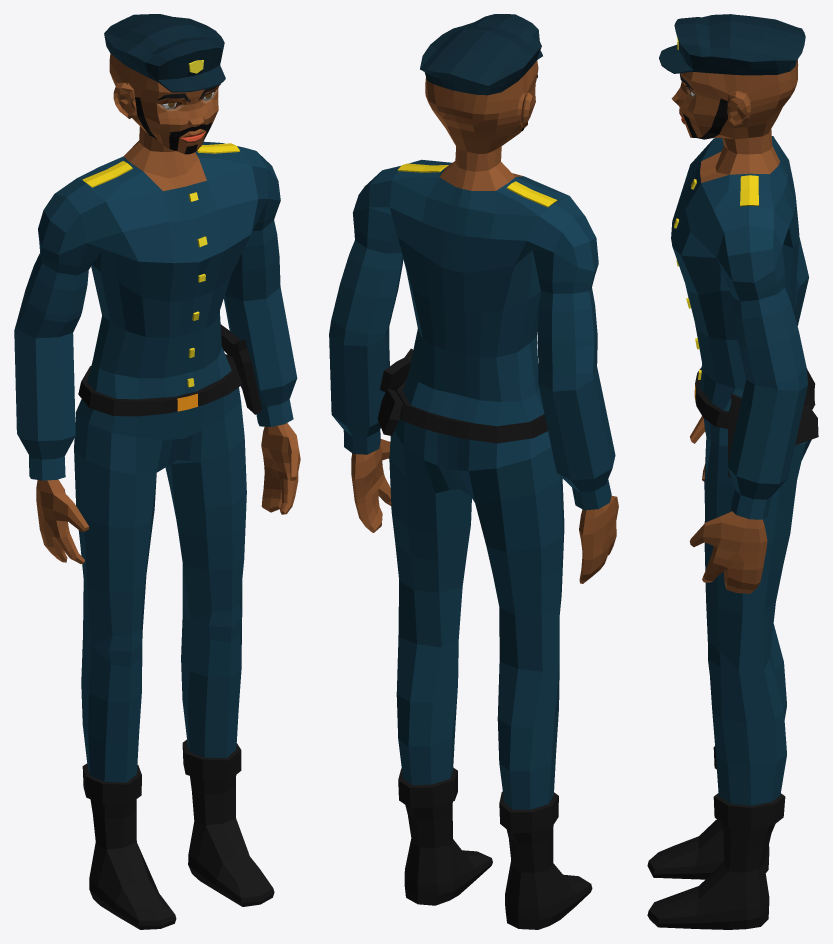
The model's file is Police_Stand.fbx.
3 renders of one model, left to right at view 1: azimuth 30°, elevation 25°; view 2: azimuth 150°, elevation 25°; view 3: azimuth 270°, elevation 25°, orthographic.
Visible parts, largest first — view 1: Police_Stand; view 2: Police_Stand; view 3: Police_Stand.
Part boxes in pixels (x1,y1,x2,y2): Police_Stand: (14,14,300,929); Police_Stand: (329,14,618,929); Police_Stand: (647,14,818,929).
Size of the model in its own units: 0.3759 by 1.13 by 0.2.
